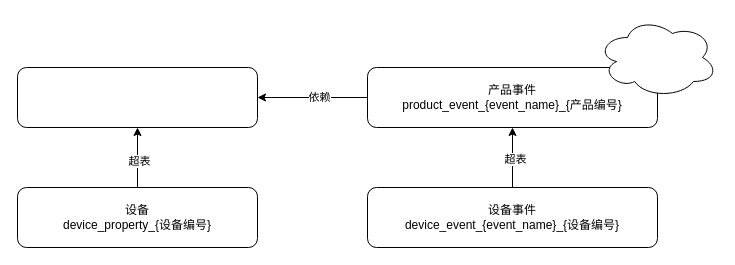
The diagram is 735 pixels wide and 265 high, and some of its shapes have lost their labels. The centre of each missing label's shape, as x and y in pixels:
一个产品可以有多个事件: (x=657, y=57)
产品事件 product_property_{产品编号}: (x=137, y=97)
